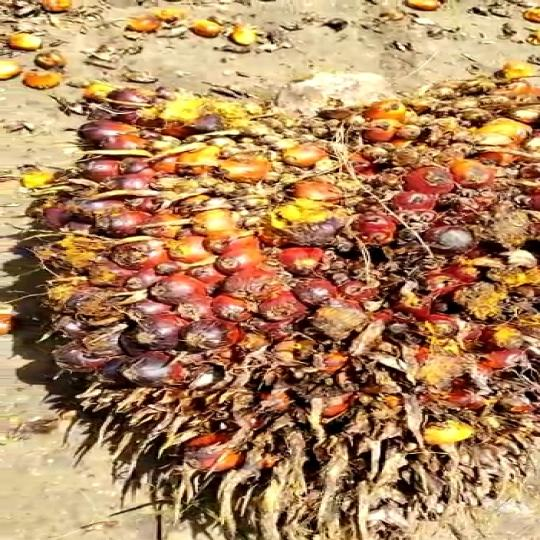masak: (28, 81, 540, 533)
